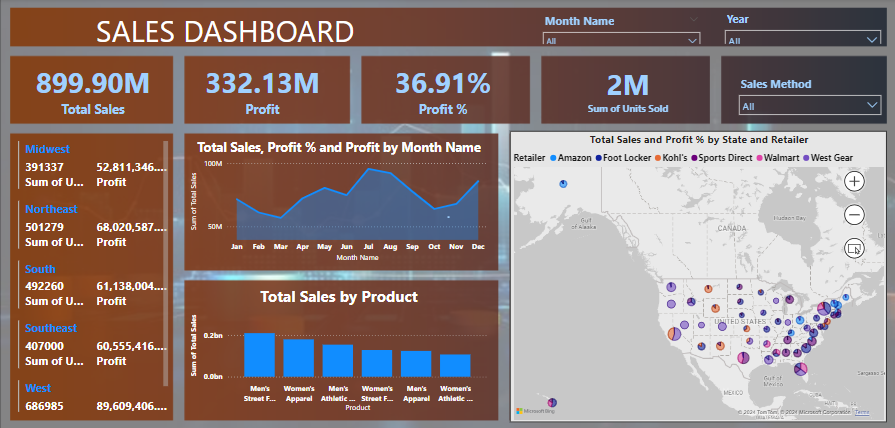

Layout of this report page (visuals, bound fields, positions):
{"tool":"powerbi","page":{"name":"Page 1","canvas":[1500,720],"ordinal":0},"visuals":[{"type":"map","title":" Total Sales and Profit % by State and Retailer","fields":{"Size":["Sum(Data Sales Adidas.Total Sales)"],"Series":["Data Sales Adidas.Retailer"],"Category":["Data Sales Adidas.State"]},"box":[852.8,220.7,630.4,486.6],"z":0},{"type":"clusteredColumnChart","title":"Total Sales by Product","fields":{"Category":["Data Sales Adidas.Product"],"Y":["Sum(Data Sales Adidas.Total Sales)"]},"box":[314.4,479.9,505,215.7],"z":1000},{"type":"areaChart","title":" Total Sales, Profit % and Profit by Month Name","fields":{"Category":["Data Sales Adidas.Month Name"],"Y":["Sum(Data Sales Adidas.Total Sales)"]},"box":[314.4,232.4,505,212.4],"z":2000},{"type":"card","fields":{"Values":["Data Sales Adidas.Profit"]},"box":[332.8,100.3,212.4,102],"z":3000},{"type":"card","fields":{"Values":["Data Sales Adidas.Profit %"]},"box":[628.8,100.3,224.1,102],"z":4000},{"type":"card","fields":{"Values":["Sum(Data Sales Adidas.Total Sales)"]},"box":[40.1,100.3,230.8,102],"z":5000},{"type":"card","fields":{"Values":["Sum(Data Sales Adidas.Units Sold)"]},"box":[919.7,100.3,260.9,102],"z":6000},{"type":"multiRowCard","fields":{"Values":["Data Sales Adidas.Region","Sum(Data Sales Adidas.Units Sold)","Data Sales Adidas.Profit"]},"box":[25.1,232.4,260.9,463.2],"z":7000},{"type":"slicer","fields":{"Values":["Data Sales Adidas.Sales Method"]},"box":[1225.6,123.6,257.7,92.2],"z":8000},{"type":"slicer","fields":{"Values":["Data Sales Adidas.Year"]},"box":[1202.3,15.1,280.9,60.2],"z":9000},{"type":"slicer","fields":{"Values":["Data Sales Adidas.Month Name"]},"box":[898,18.4,282.6,56.9],"z":10000},{"type":"textbox","title":"SALES DASHBOARD","box":[155,18.9,517.5,56.6],"z":11000}]}

Visuals, with their boxes in screenshot pixels (x1, y1, x2, y2), scaled from the page's 1500x720 canvas onto the 895x428 screenshot:
" Total Sales and Profit % by State and Retailer" map: locate(509, 131, 885, 420)
"Total Sales by Product" clusteredColumnChart: locate(188, 285, 489, 413)
" Total Sales, Profit % and Profit by Month Name" areaChart: locate(188, 138, 489, 264)
card - Data Sales Adidas.Profit: locate(199, 60, 325, 120)
card - Data Sales Adidas.Profit %: locate(375, 60, 509, 120)
card - Sum(Data Sales Adidas.Total Sales): locate(24, 60, 162, 120)
card - Sum(Data Sales Adidas.Units Sold): locate(549, 60, 704, 120)
multiRowCard - Data Sales Adidas.Region x Sum(Data Sales Adidas.Units Sold): locate(15, 138, 171, 413)
slicer - Data Sales Adidas.Sales Method: locate(731, 73, 885, 128)
slicer - Data Sales Adidas.Year: locate(717, 9, 885, 45)
slicer - Data Sales Adidas.Month Name: locate(536, 11, 704, 45)
"SALES DASHBOARD" textbox: locate(92, 11, 401, 45)
